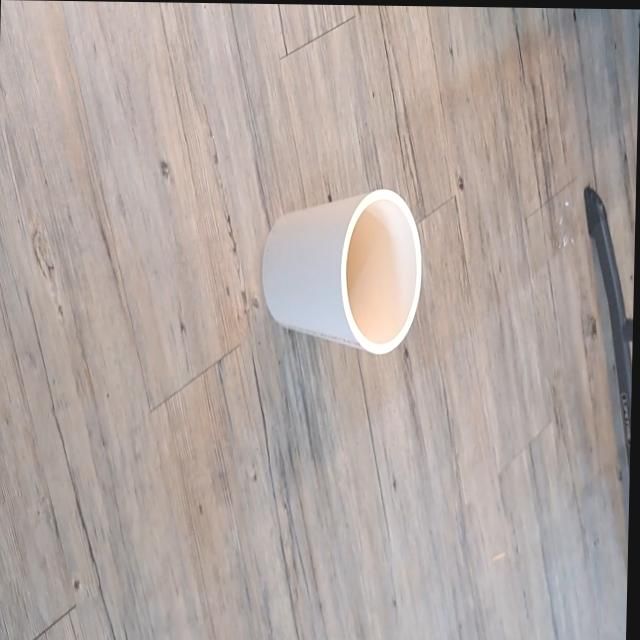CORAL: (250, 167, 438, 366)
